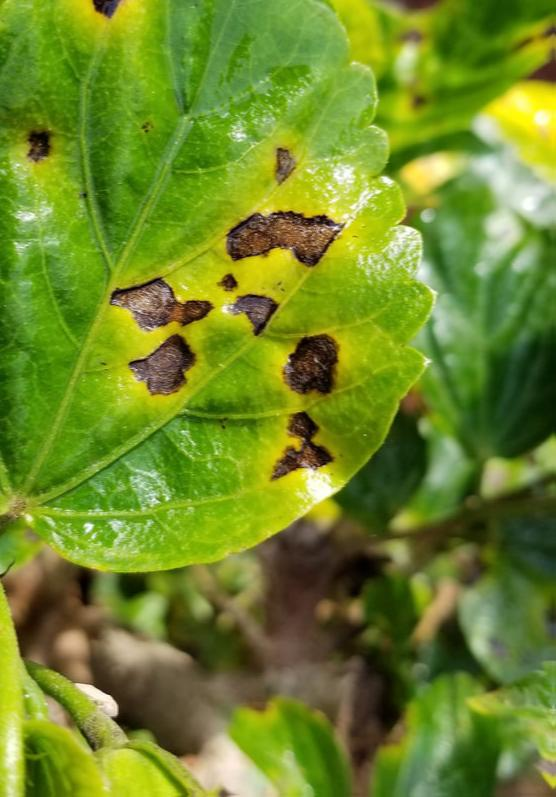Tomato leaf bacterial spot: (0, 0, 455, 576)
